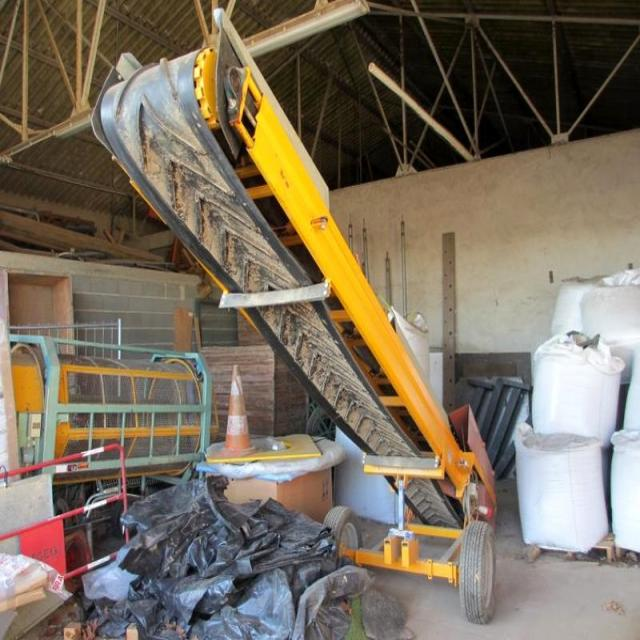Convoyeur: (88, 17, 508, 549)
